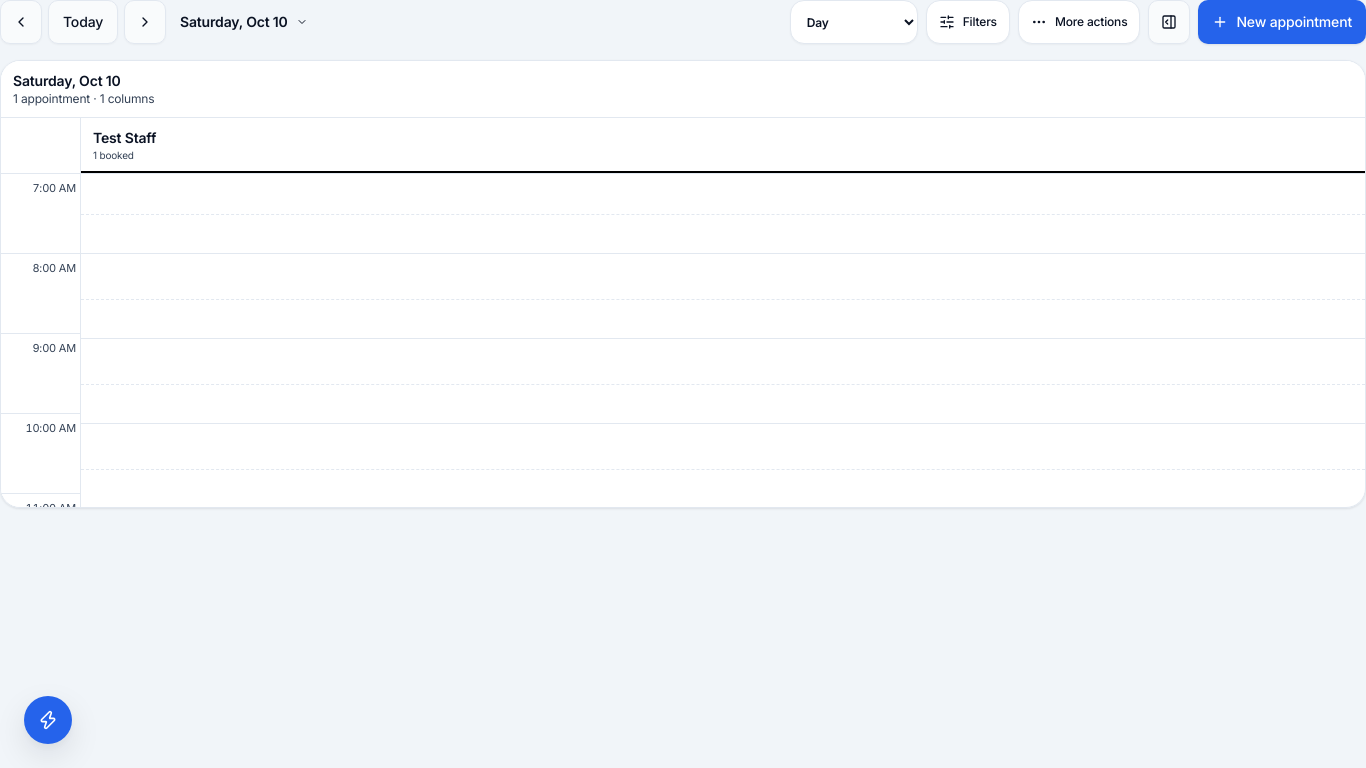
Scenario: filters the displayed schedule without narrowing the canonical Booking Sheet catalog
The width and height of the screenshot is (1366, 768).
Click the heading "Filters" at (968, 22), box [926,0,1010,44]
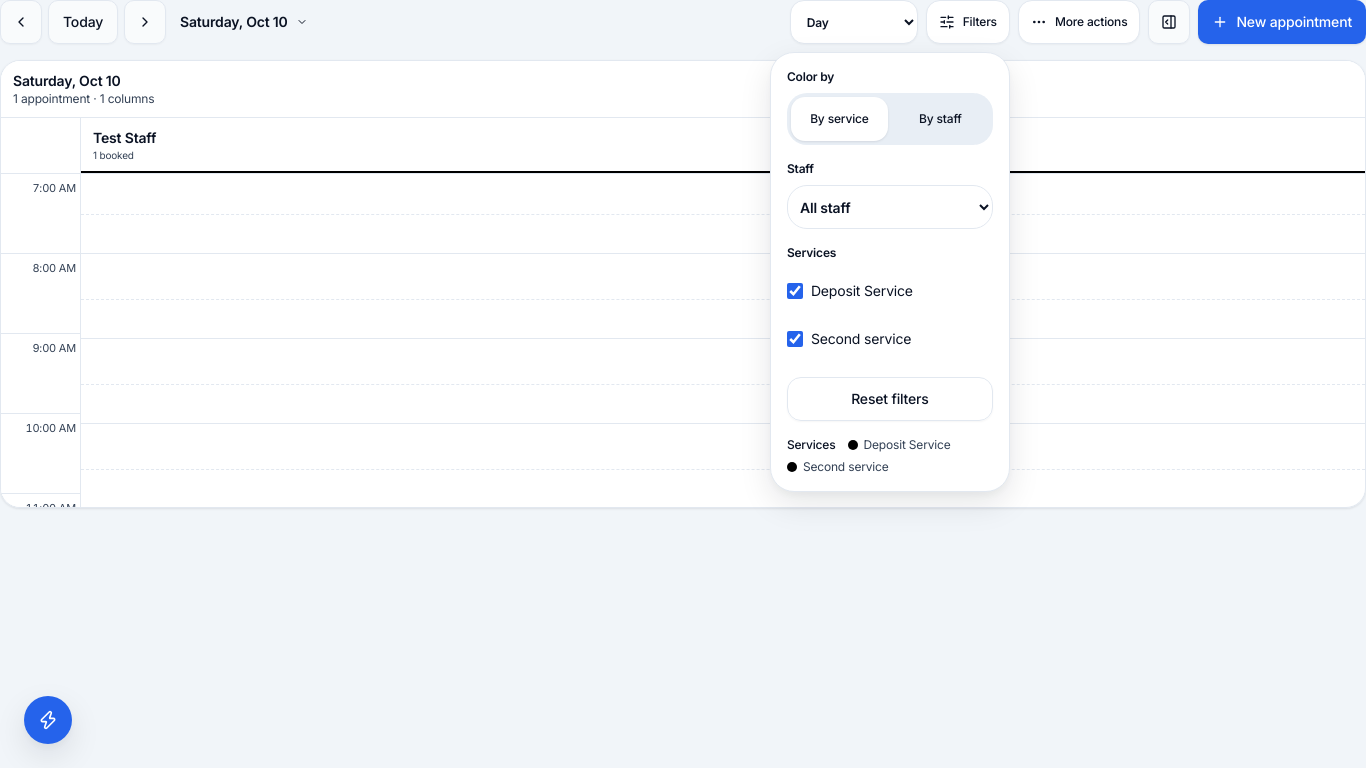
Click the checkbox labelled "Deposit Service" at (795, 291), box [787,283,803,299]
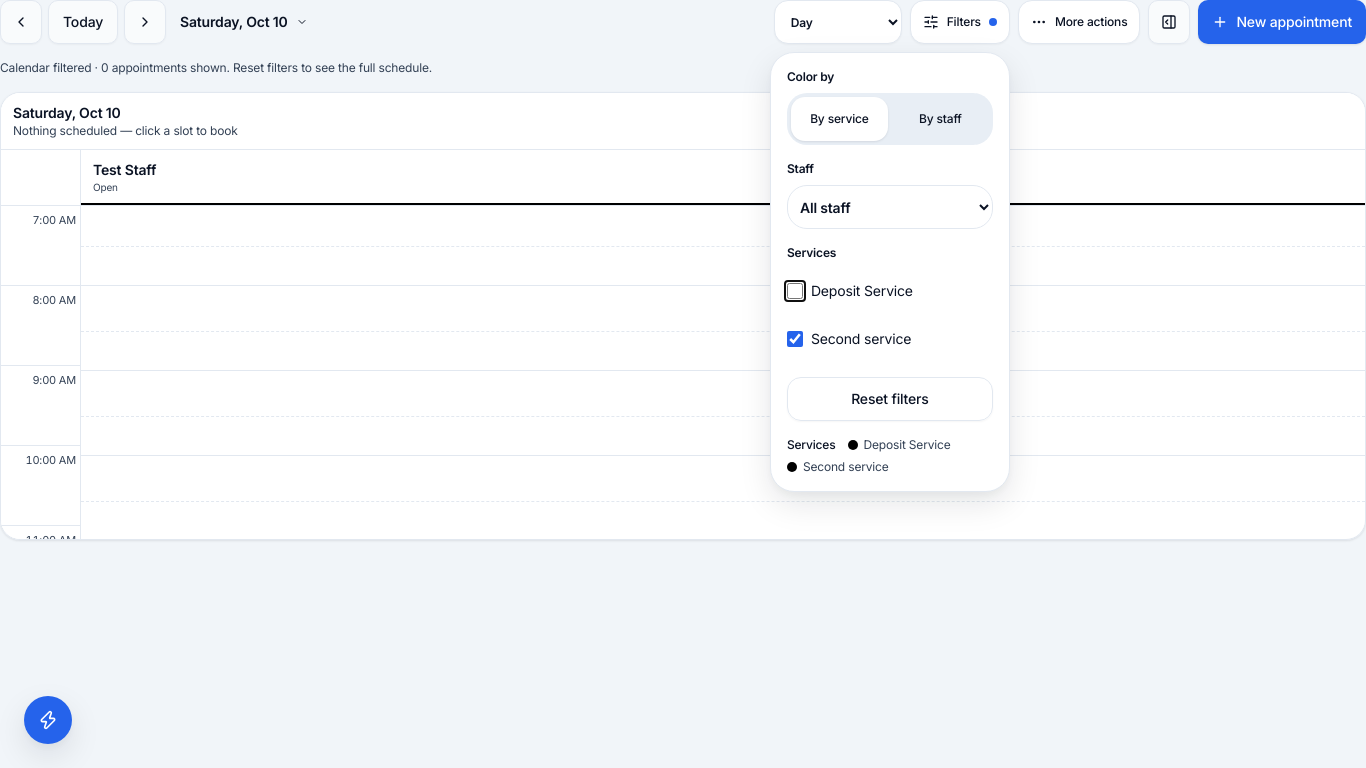
Now the message shows "Calendar filtered", box [0,60,101,75]
Click the button "New appointment" at (1282, 22), box [1198,0,1365,44]
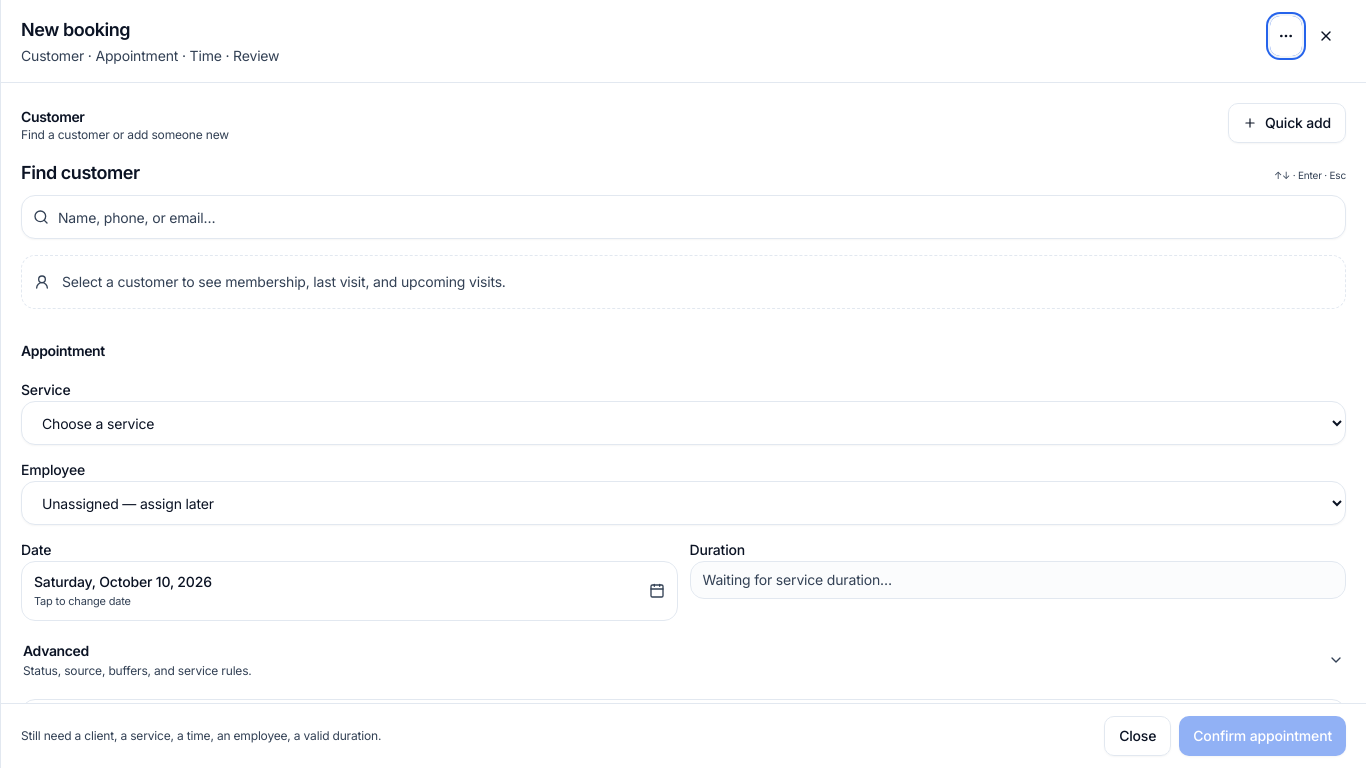
Now the dialog is shown
Now the dropdown labelled "Service" shows "Choose a service", box [21,401,1346,445]
